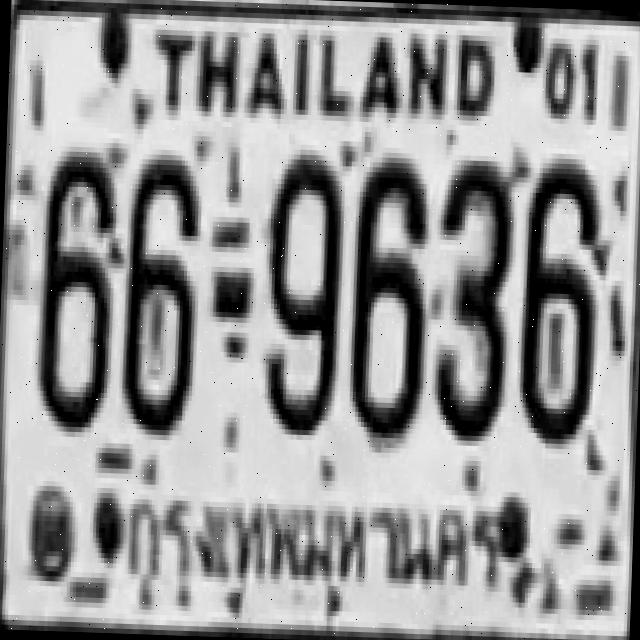3: (428, 154, 511, 436)
6: (514, 154, 604, 442), (344, 149, 428, 441), (32, 146, 116, 428), (117, 148, 200, 430)
9: (258, 148, 342, 430)
Bangkok: (121, 481, 512, 604)
